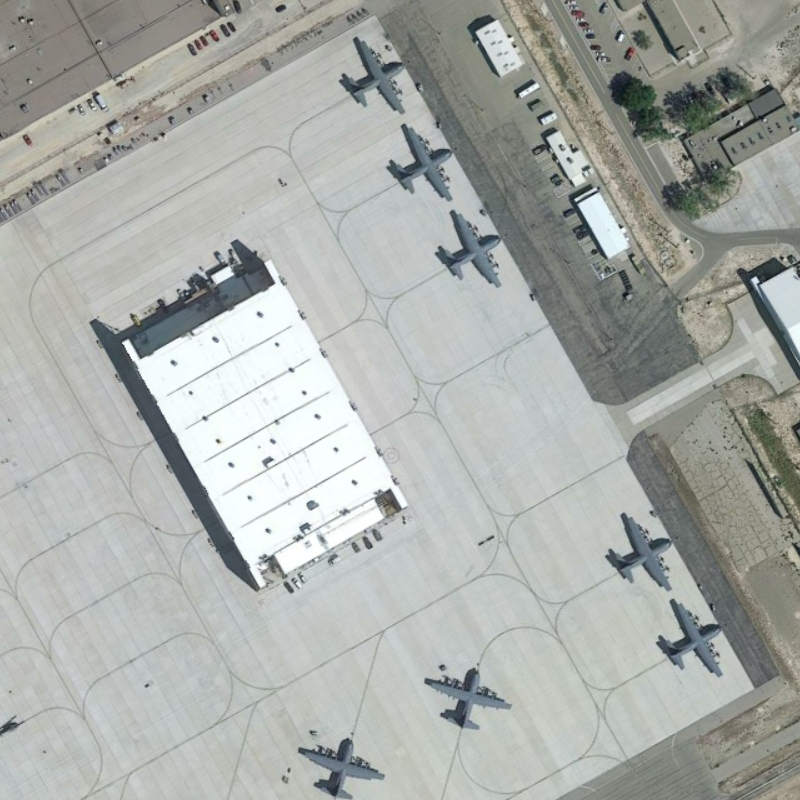A2: (338, 29, 420, 118), (421, 659, 515, 735), (288, 730, 390, 800), (604, 509, 685, 594), (382, 118, 460, 205), (432, 205, 505, 293), (654, 595, 727, 682)
